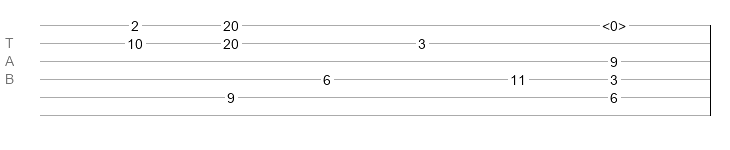10: (127, 36, 143, 46)
11: (510, 72, 526, 82)
2: (131, 18, 139, 28)
20: (223, 18, 239, 28), (223, 36, 239, 46)
3: (418, 36, 426, 46), (610, 72, 618, 82)
6: (323, 72, 331, 82), (610, 90, 618, 100)
9: (227, 90, 235, 100), (610, 54, 618, 64)
harmonic: (602, 18, 626, 28)
